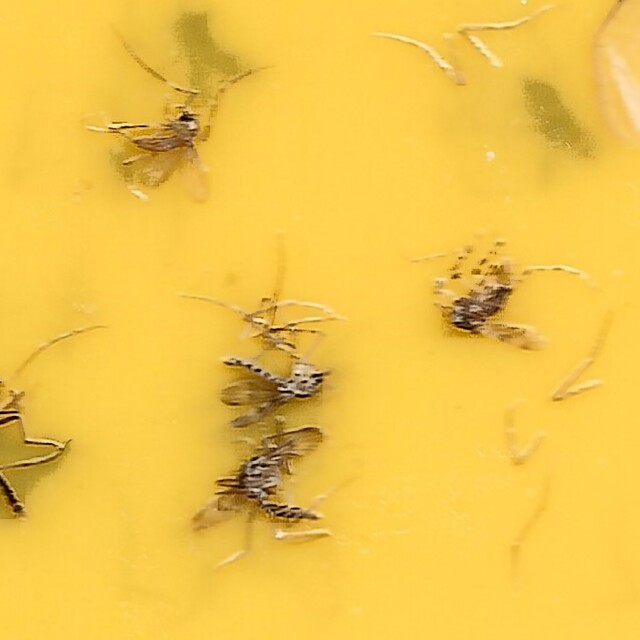Nematocera: (194, 424, 325, 546), (221, 298, 334, 430), (96, 94, 212, 202), (438, 245, 544, 357)
